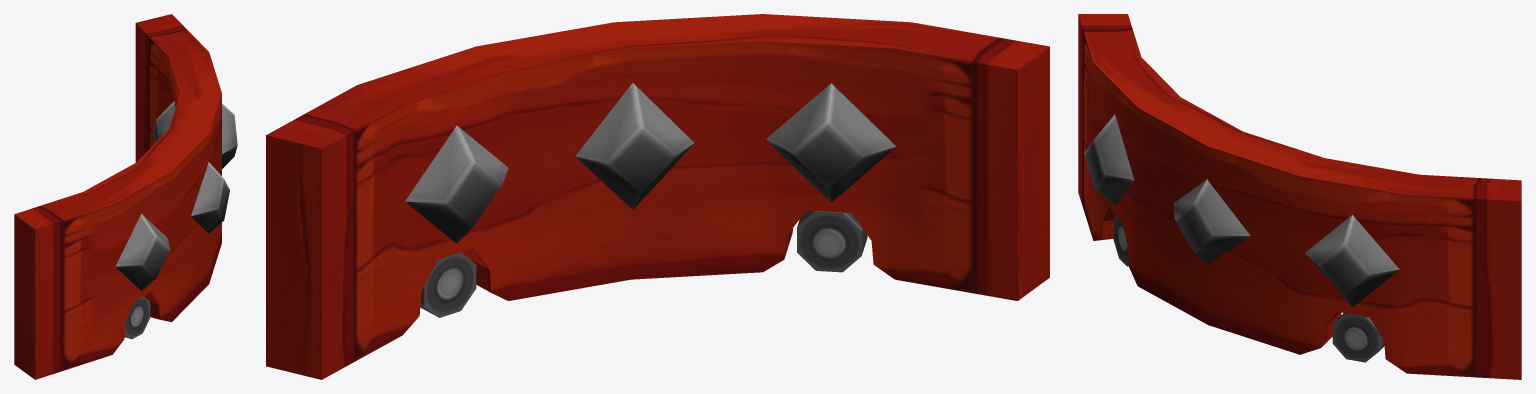
The model's file is dynamic_arched_fence_red_02.fbx.
3 views of the same model, side by side, from view 1: azimuth 30°, elevation 25°; view 2: azimuth 150°, elevation 25°; view 3: azimuth 270°, elevation 25° (orthographic). The views are drawn at different scales.
Parts seen in each view (by area): view 1: dynamic_arched_fence_red_02; view 2: dynamic_arched_fence_red_02; view 3: dynamic_arched_fence_red_02.
Part boxes in pixels (<box>): dynamic_arched_fence_red_02: <box>14,14,237,379</box>; dynamic_arched_fence_red_02: <box>266,14,1049,379</box>; dynamic_arched_fence_red_02: <box>1078,14,1521,379</box>.
Size of the model in its own units: 90 by 40 by 90.
